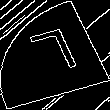L_S: (25, 26, 85, 84)
